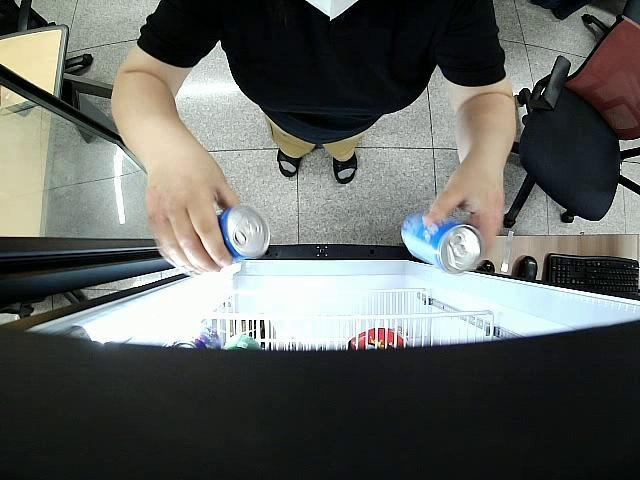15_letsbe: (402, 213, 481, 272), (218, 204, 270, 262)
